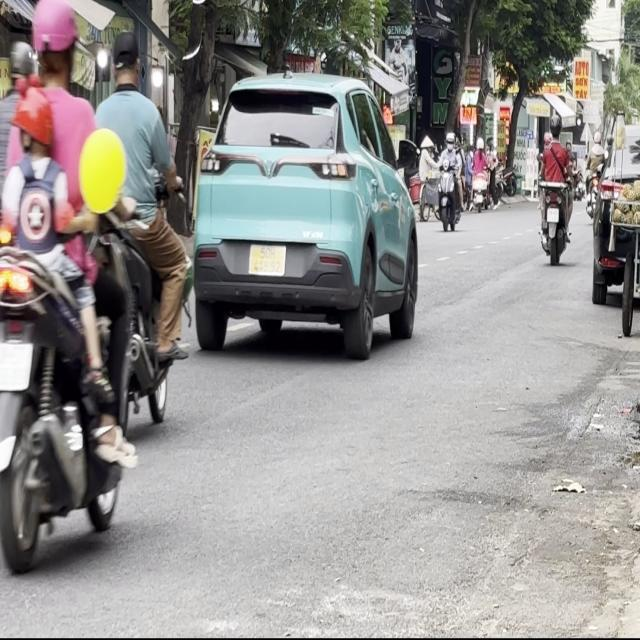helmet: (27, 0, 77, 88), (11, 84, 55, 167), (6, 38, 34, 88)
licenseplate: (0, 0, 136, 572), (76, 25, 193, 438)
motorcyclist: (110, 30, 142, 90)
nohelmet: (0, 341, 31, 386)
